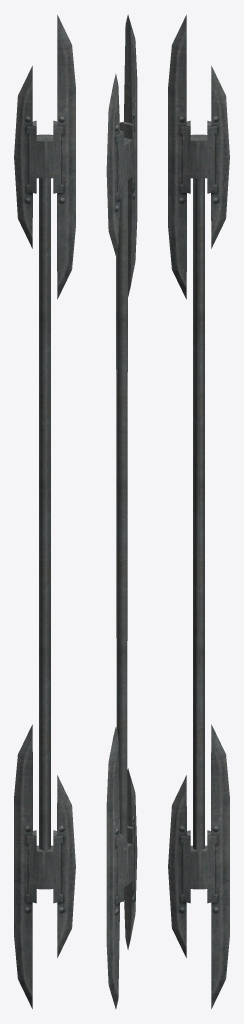
The model's file is wp_mle_lance_military_pike_l1.fbx.
The picture shows the model from 3 angles, left to right: view 1: azimuth 90°, elevation 25°; view 2: azimuth 150°, elevation 25°; view 3: azimuth 270°, elevation 25°; orthographic projection.
Visible parts, largest first — view 1: mesh_node; view 2: mesh_node; view 3: mesh_node.
Part boxes in pixels (left/top/right/bottom): mesh_node: left=14, top=15, right=75, bottom=1008; mesh_node: left=106, top=14, right=137, bottom=1009; mesh_node: left=168, top=15, right=229, bottom=1008.
Bounding box in the file's own units: 0.0211 × 1.44 × 0.0814.
1 material, 1 textured.
